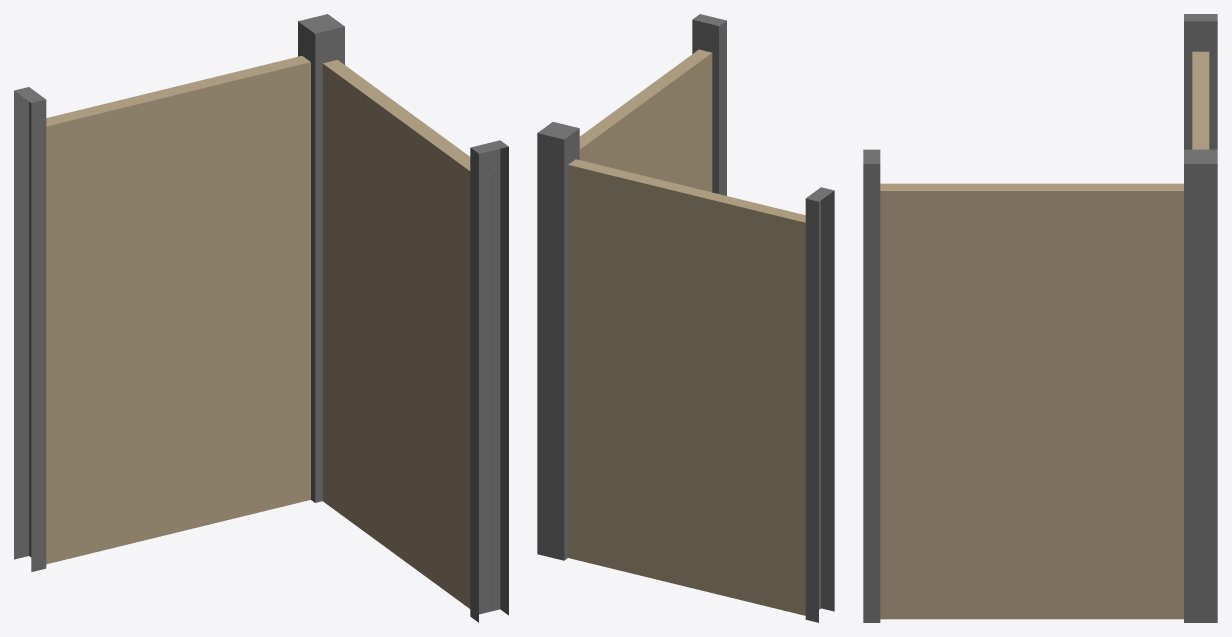
File: SM_Fence_Corner_200.fbx
3 views of the same model, side by side, from view 1: azimuth 30°, elevation 25°; view 2: azimuth 150°, elevation 25°; view 3: azimuth 270°, elevation 25° (orthographic). The views are drawn at different scales.
Parts seen in each view (by area): view 1: SM_Fence_Corner_200; view 2: SM_Fence_Corner_200; view 3: SM_Fence_Corner_200.
Part boxes in pixels (x1,y1,x2,y2): SM_Fence_Corner_200: [14, 14, 508, 622]; SM_Fence_Corner_200: [537, 14, 834, 622]; SM_Fence_Corner_200: [863, 14, 1217, 622].
Size of the model in its own units: 210 by 300 by 210.
